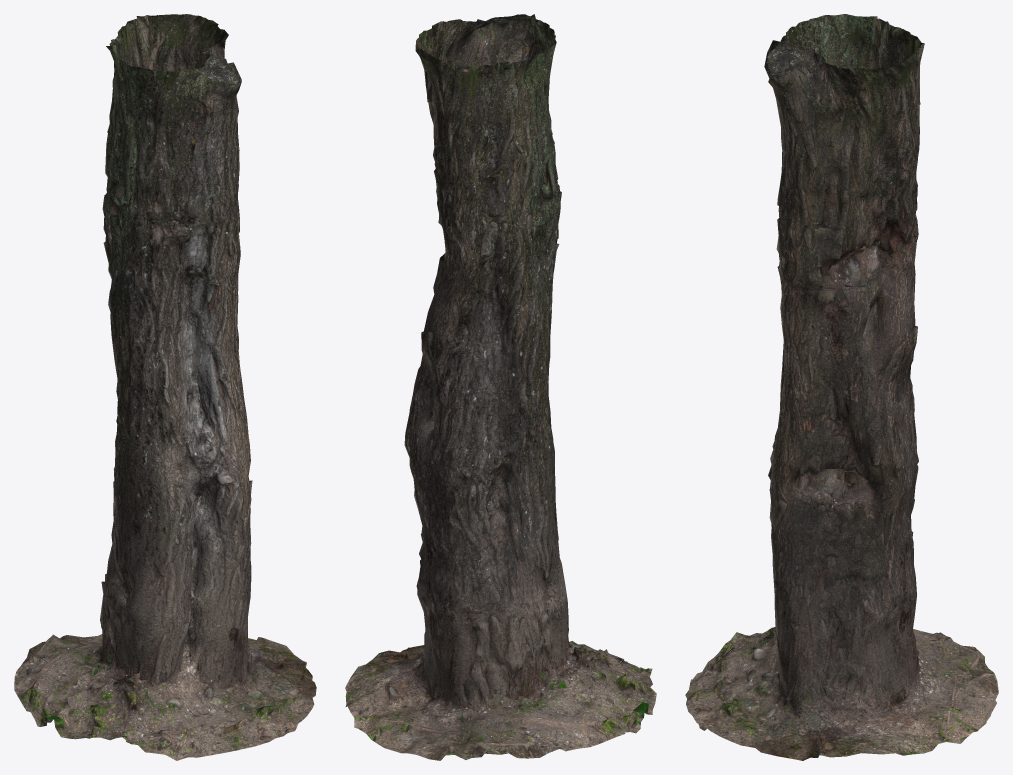
Rendered from PX_Cinnamomum_burmannii_Trunk_01_LOD1.fbx.
3 renders of one model, left to right at view 1: azimuth 30°, elevation 25°; view 2: azimuth 150°, elevation 25°; view 3: azimuth 270°, elevation 25°, orthographic. The views are drawn at different scales.
Visible parts, largest first — view 1: PX_Cinnamomum_burmannii_Trunk_01_LOD1; view 2: PX_Cinnamomum_burmannii_Trunk_01_LOD1; view 3: PX_Cinnamomum_burmannii_Trunk_01_LOD1.
Part boxes in pixels (x1,y1,x2,y2): PX_Cinnamomum_burmannii_Trunk_01_LOD1: (14,14,316,760); PX_Cinnamomum_burmannii_Trunk_01_LOD1: (345,14,656,760); PX_Cinnamomum_burmannii_Trunk_01_LOD1: (685,14,998,760).
Size of the model in its own units: 99.31 by 237 by 101.
